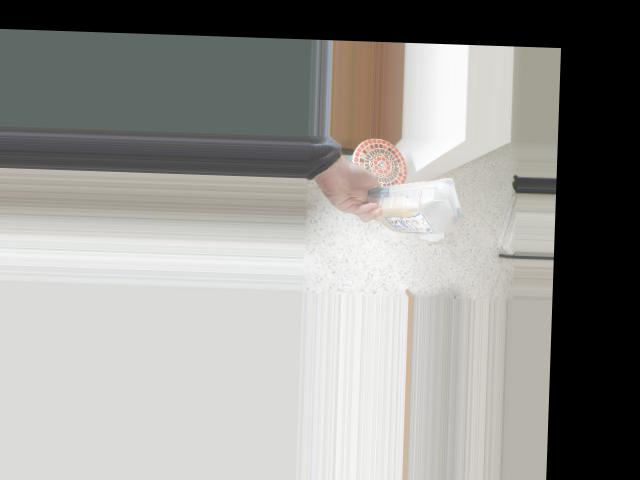cheese: (369, 179, 464, 235)
